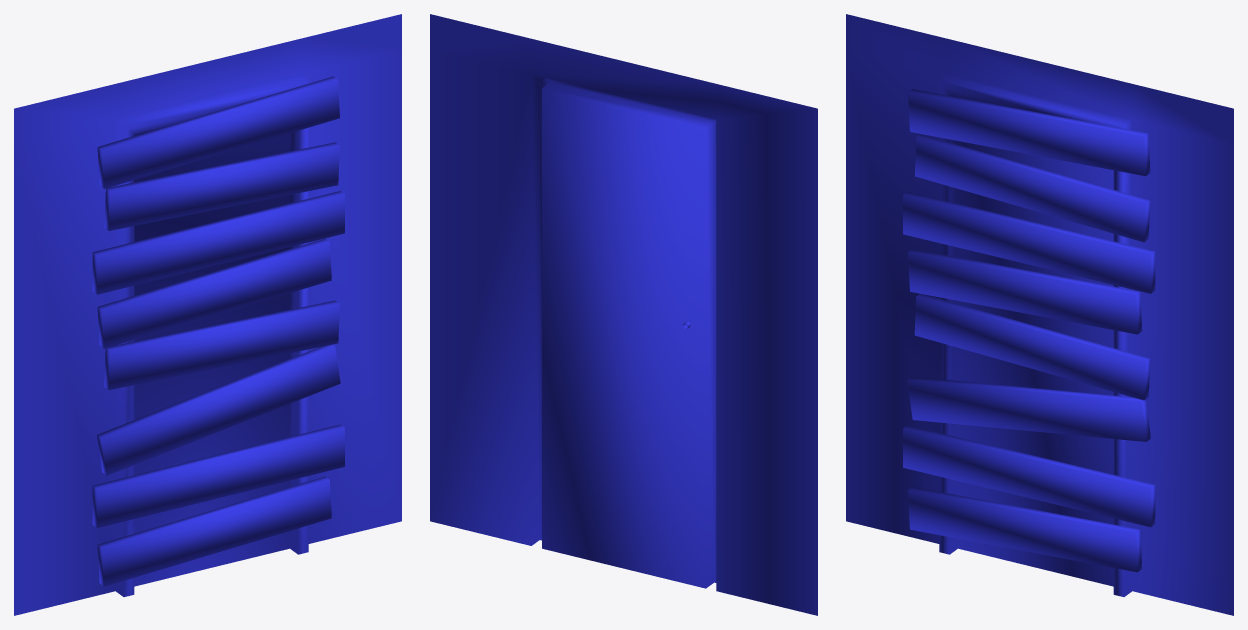
The model's file is DeurLow2.fbx.
The picture shows the model from 3 angles, left to right: view 1: azimuth 30°, elevation 25°; view 2: azimuth 150°, elevation 25°; view 3: azimuth 330°, elevation 25°; orthographic projection.
Visible parts, largest first — view 1: DeurLow2; view 2: DeurLow2; view 3: DeurLow2.
Part boxes in pixels (x1=…): DeurLow2: x1=14, y1=14, x2=401, y2=615; DeurLow2: x1=430, y1=14, x2=817, y2=615; DeurLow2: x1=846, y1=14, x2=1233, y2=615.
Bounding box in the file's own units: 200 × 250 × 13.8.
